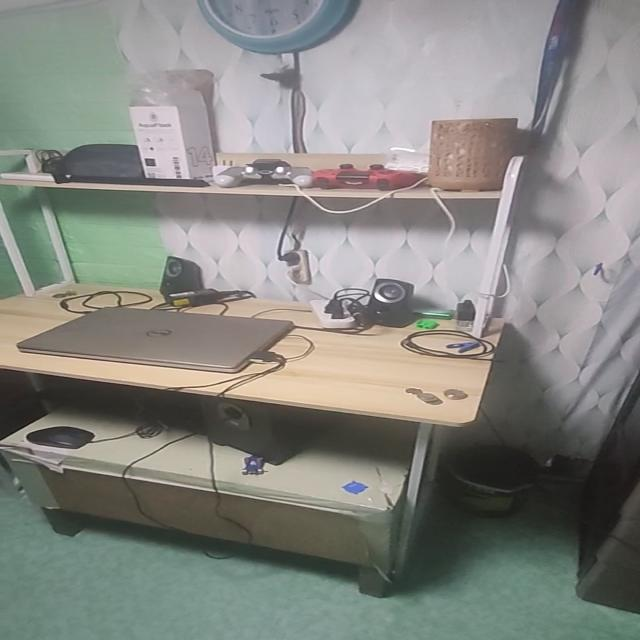table: (0, 282, 520, 606)
